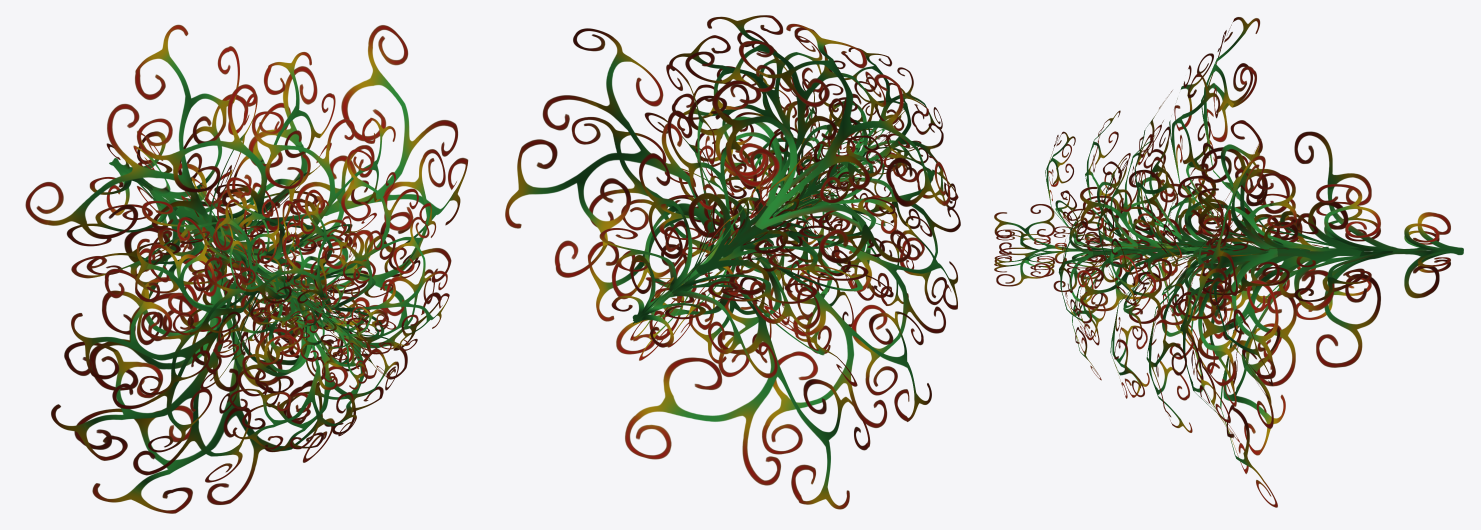
File: Pl_Swirl.glb
3 views of the same model, side by side, from view 1: azimuth 30°, elevation 25°; view 2: azimuth 150°, elevation 25°; view 3: azimuth 270°, elevation 25° (orthographic). The views are drawn at different scales.
Parts seen in each view (by area): view 1: swirl; view 2: swirl; view 3: swirl.
Part boxes in pixels (bbox=[...]): swirl: bbox=[25, 24, 468, 513]; swirl: bbox=[505, 15, 960, 509]; swirl: bbox=[994, 17, 1463, 507].
Size of the model in its own units: 1.45 by 1.5 by 1.46.
1 material, 1 textured.
